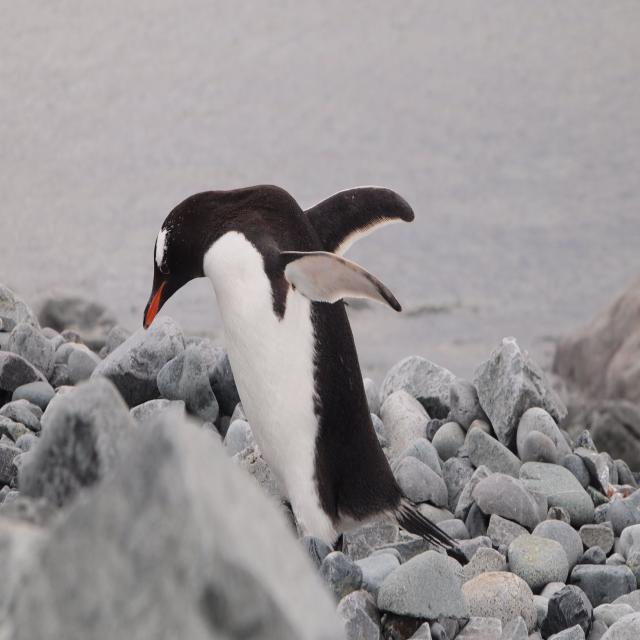Penguins: (142, 146, 420, 551)
